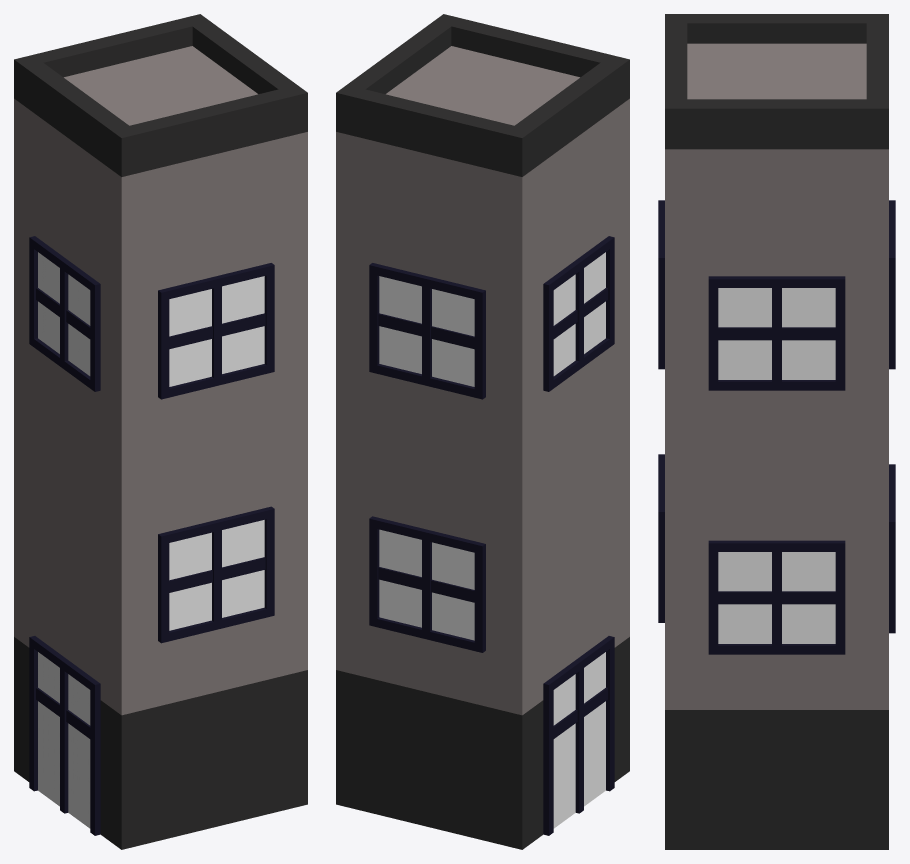
Rendered from housetower.fbx.
The picture shows the model from 3 angles, left to right: view 1: azimuth 30°, elevation 25°; view 2: azimuth 150°, elevation 25°; view 3: azimuth 270°, elevation 25°; orthographic projection. The views are drawn at different scales.
Parts seen in each view (by area): view 1: block, window_wide (×3), roof_flat, door_wide; view 2: block, window_wide (×3), roof_flat, door_wide; view 3: block, window_wide (×6), roof_flat.
Boxes of the visible parts, left/top/right/bottom form: block: left=14, top=98, right=307, bottom=849; window_wide (×3): left=29, top=236, right=274, bottom=643; roof_flat: left=14, top=14, right=307, bottom=176; door_wide: left=29, top=636, right=100, bottom=835; block: left=336, top=98, right=629, bottom=849; window_wide (×3): left=369, top=236, right=614, bottom=652; roof_flat: left=336, top=14, right=629, bottom=176; door_wide: left=543, top=636, right=614, bottom=835; block: left=665, top=149, right=888, bottom=849; window_wide (×6): left=658, top=200, right=895, bottom=654; roof_flat: left=665, top=14, right=888, bottom=149.
Size of the model in its own units: 5.3 by 18.25 by 5.3.
